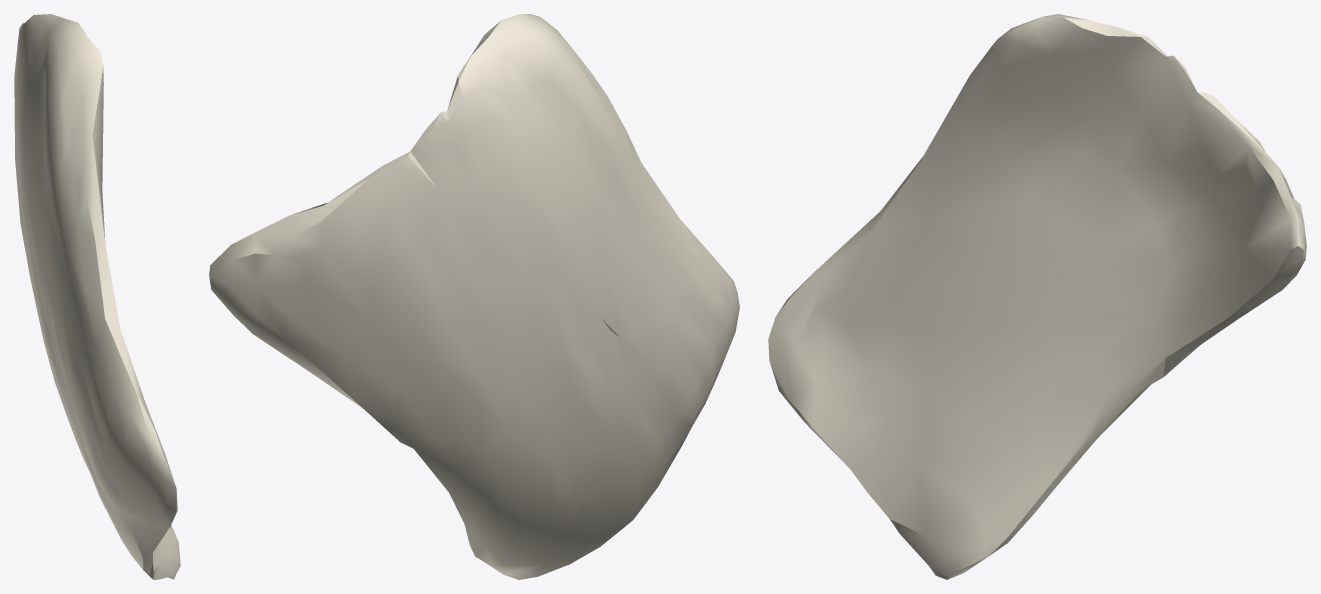
The model's file is fma326807-r_mm1480m.glb.
3 renders of one model, left to right at view 1: azimuth 30°, elevation 25°; view 2: azimuth 150°, elevation 25°; view 3: azimuth 270°, elevation 25°, orthographic. The views are drawn at different scales.
Parts seen in each view (by area): view 1: FMA326807-R_MM1480M; view 2: FMA326807-R_MM1480M; view 3: FMA326807-R_MM1480M.
Boxes of the visible parts, left/top/right/bottom form: FMA326807-R_MM1480M: left=14, top=14, right=180, bottom=579; FMA326807-R_MM1480M: left=209, top=14, right=739, bottom=579; FMA326807-R_MM1480M: left=768, top=14, right=1306, bottom=579.
Size of the model in its own units: 0.00371 by 0.00882 by 0.00795.
